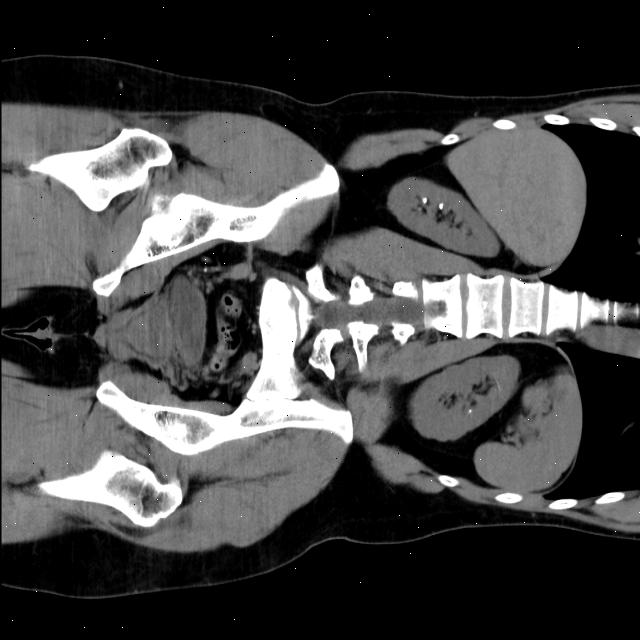kidneystone: (466, 407, 472, 416), (421, 197, 426, 204), (438, 203, 442, 210)
